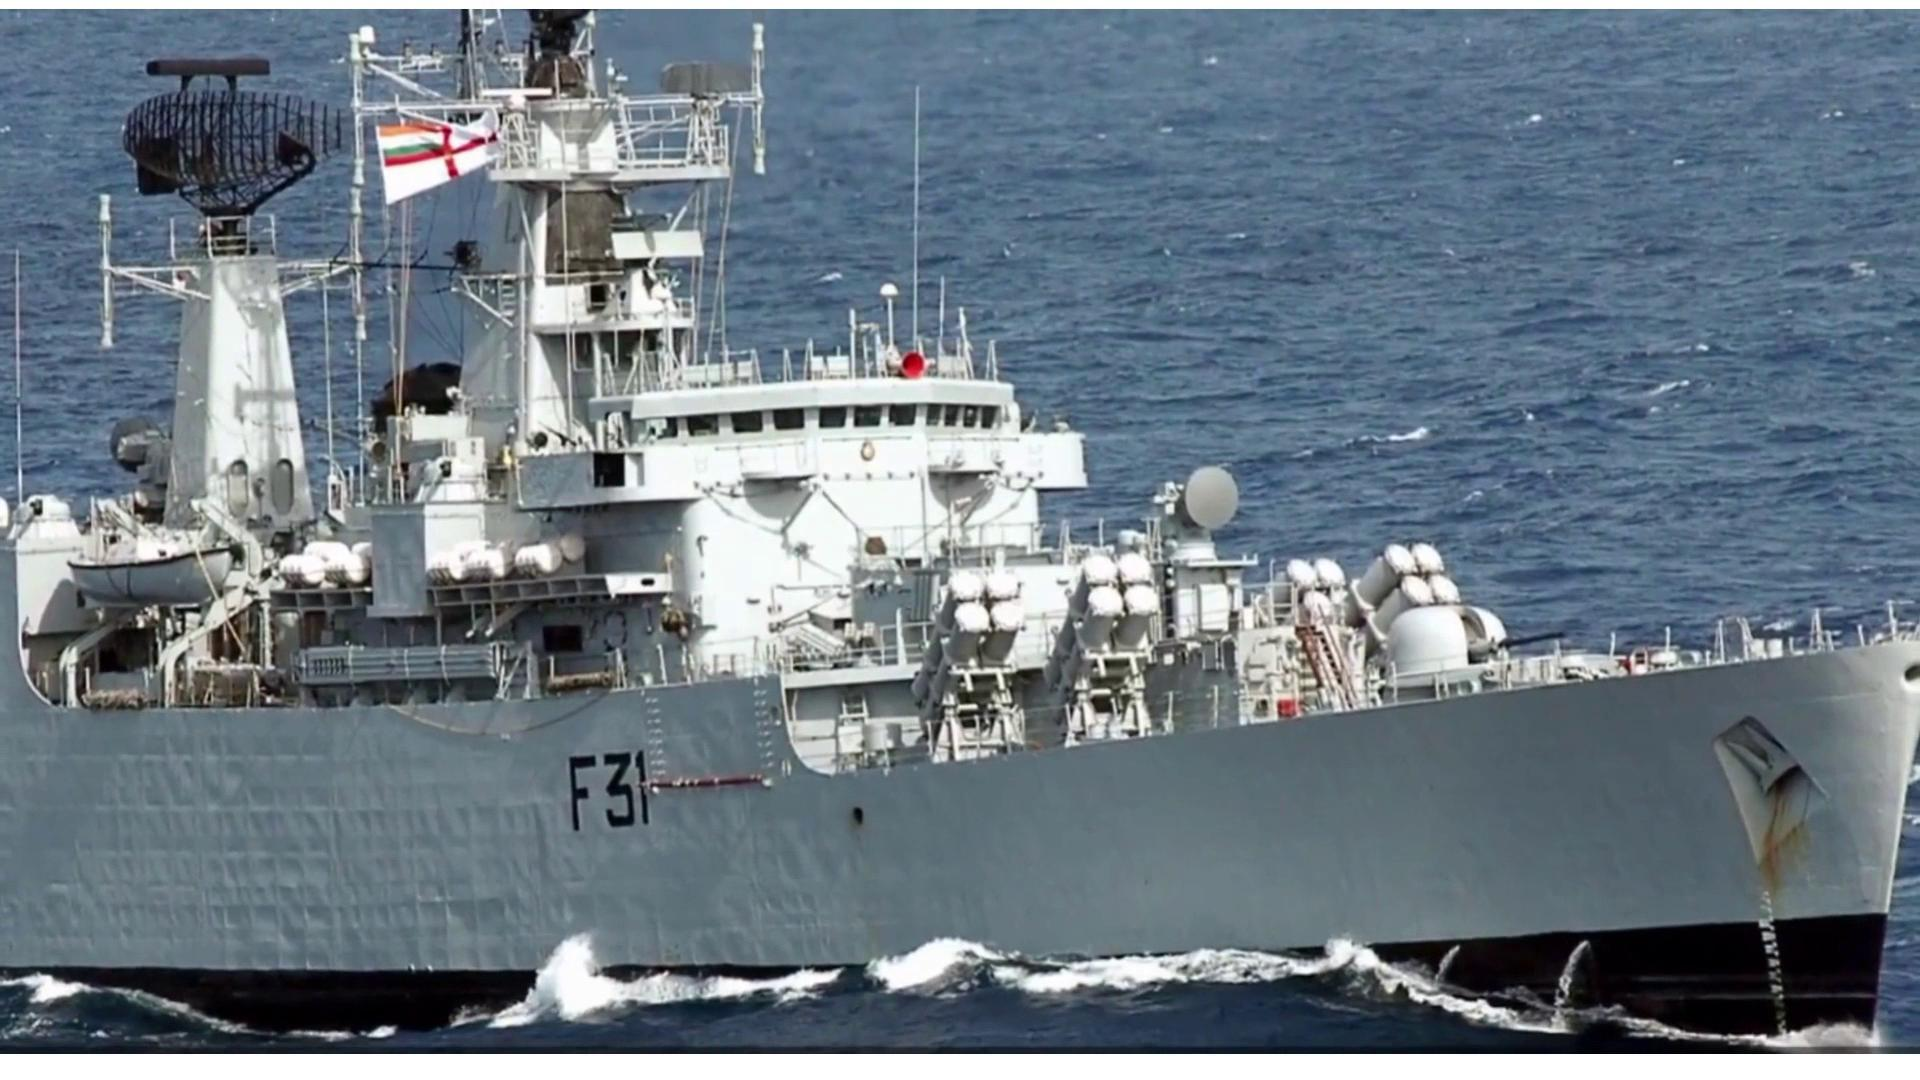OCR: (556, 738, 654, 839)
